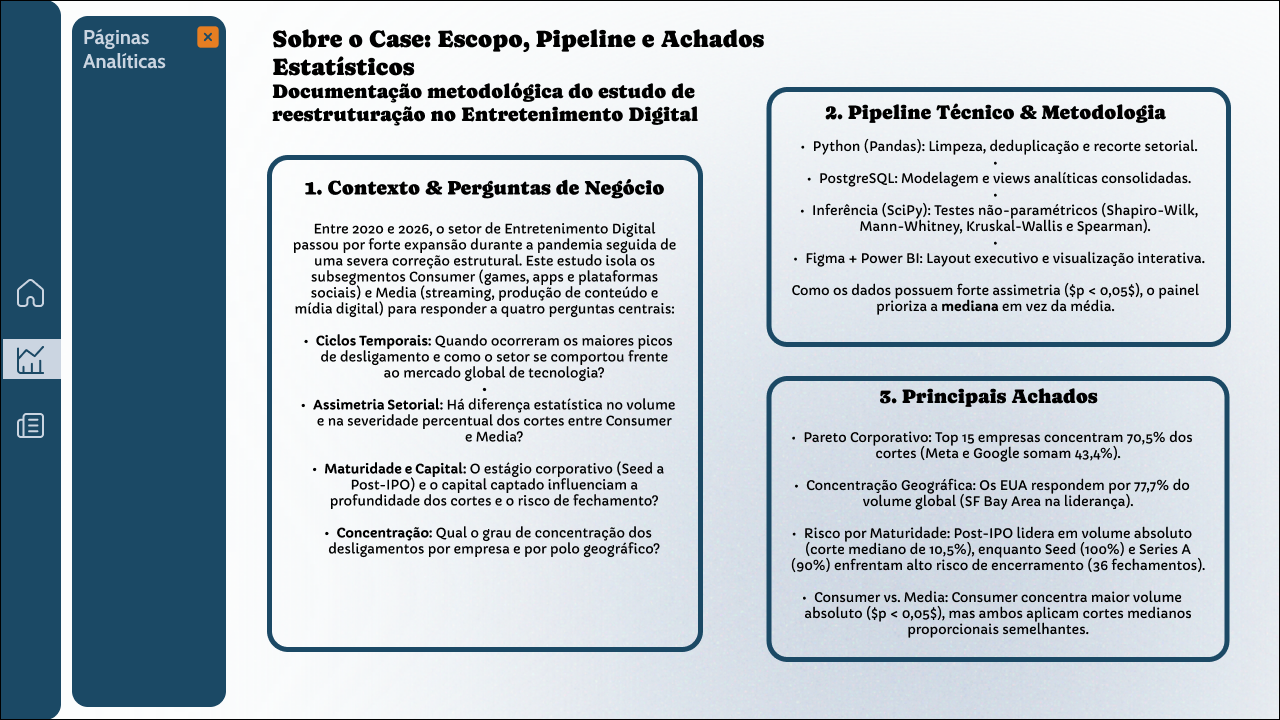

This screenshot's page, from the dashboard's own definition file:
{"tool":"powerbi","page":{"name":"Sobre o Case","canvas":[1920,1080],"ordinal":3},"visuals":[{"type":"image","title":"Imagem","box":[0,0,1920,1080],"z":0,"group":"g1"},{"type":"image","title":"Padrão","box":[0,0,1920,1080],"z":0},{"type":"group","id":"g1","title":"Navegação","box":[0,0,1920,1080],"z":1000},{"type":"pageNavigator","box":[120,432,192,216],"z":1000,"group":"g1"},{"type":"actionButton","title":"Voltar a Página Padrão","box":[290,35,40,40],"z":2000},{"type":"actionButton","title":"Painel Navegação","box":[7,505,72,72],"z":3000},{"type":"pageNavigator","title":"Sobre o Case","box":[12,608,60,60],"z":4000},{"type":"pageNavigator","title":"Home","box":[22,418,60,60],"z":5000}]}

Visuals, with their boxes on the page's 1920x1080 design canvas (x1, y1, x2, y2). These are canvas units, not pixel positions in the 1280x720 screenshot, which may show the page scaled, cropped or inside an application window:
"Imagem" image: (x1=0, y1=0, x2=1920, y2=1080)
"Padrão" image: (x1=0, y1=0, x2=1920, y2=1080)
"Navegação" group: (x1=0, y1=0, x2=1920, y2=1080)
pageNavigator: (x1=120, y1=432, x2=312, y2=648)
"Voltar a Página Padrão" actionButton: (x1=290, y1=35, x2=330, y2=75)
"Painel Navegação" actionButton: (x1=7, y1=505, x2=79, y2=577)
"Sobre o Case" pageNavigator: (x1=12, y1=608, x2=72, y2=668)
"Home" pageNavigator: (x1=22, y1=418, x2=82, y2=478)
